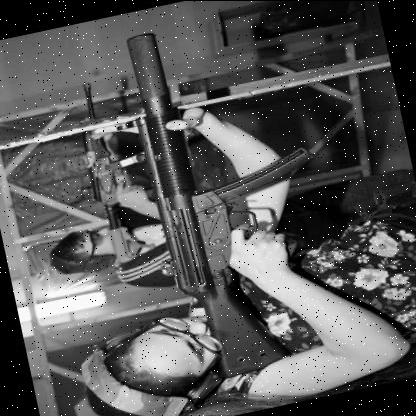rifle: (109, 3, 345, 384), (60, 70, 168, 269)
